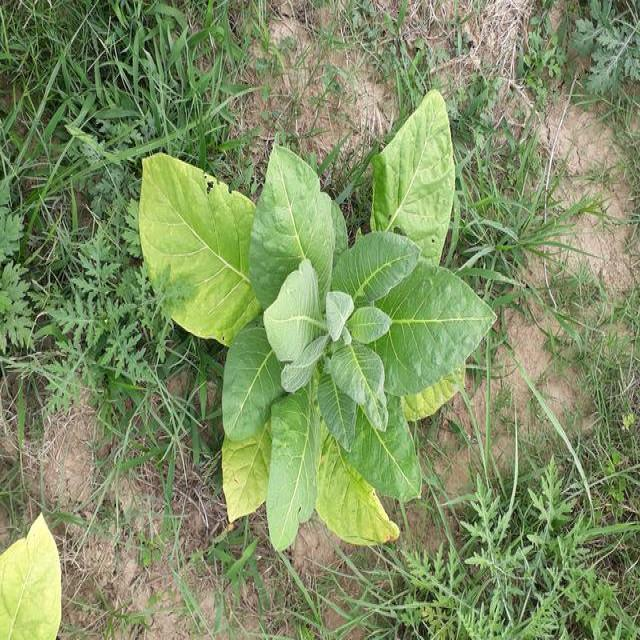crop: (132, 111, 495, 546), (0, 512, 63, 640)
